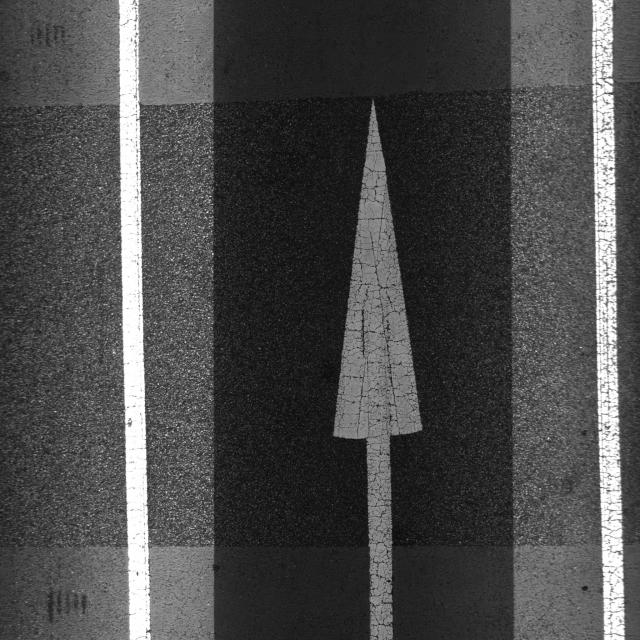forward: (214, 3, 627, 639)
